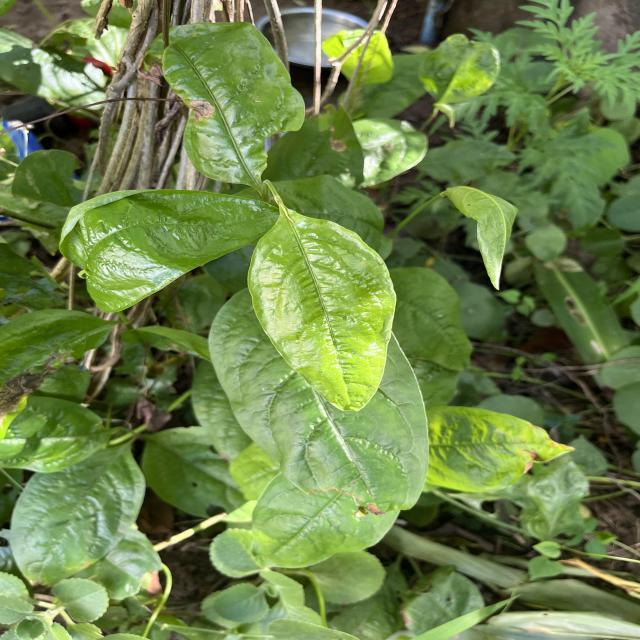Plumbago indica: (246, 209, 398, 414), (55, 186, 283, 316), (146, 17, 310, 190), (5, 444, 150, 586)
